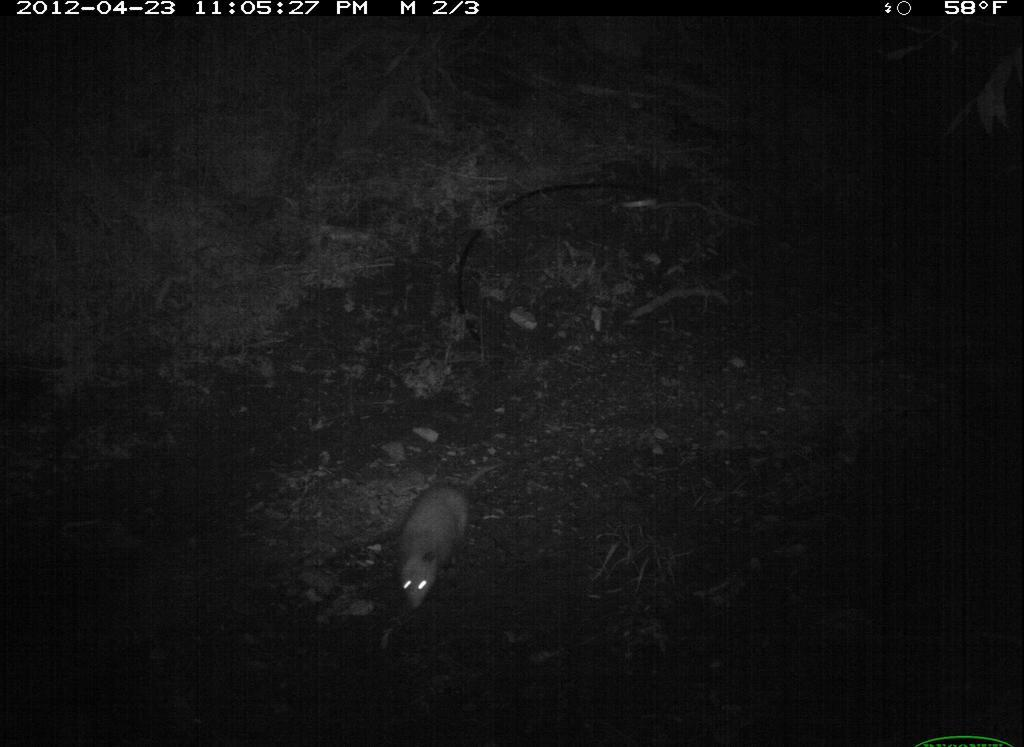opossum: (386, 438, 501, 610)
